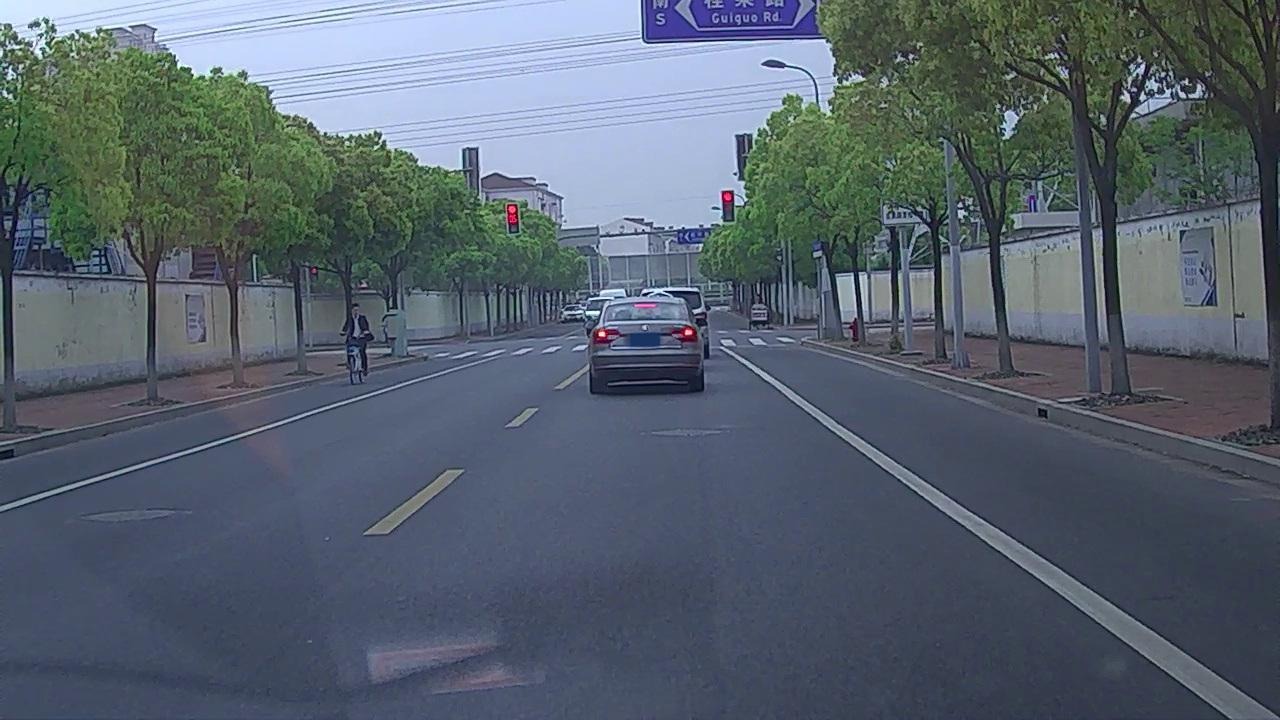traffic_light: (722, 191, 735, 222), (506, 203, 519, 233)
